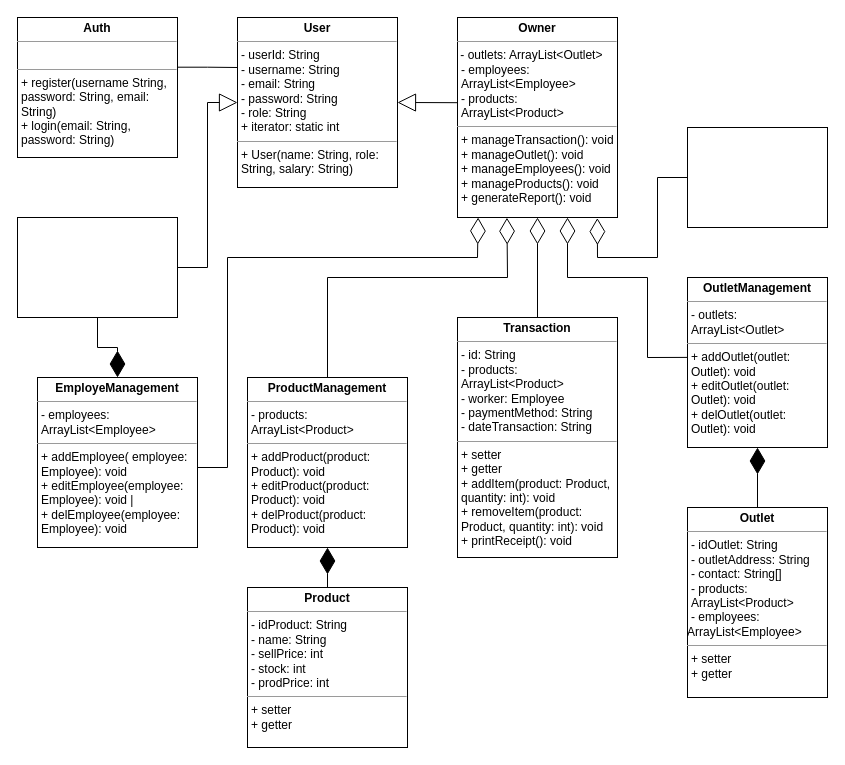
This 845x765 diagram has some shape labels left out. Here are the shapes that lost their labels. From the top down, the centre of each, then its label:
At point (757, 177): "Report + transactions: ArrayList<Transaction> + generateRepote(): void".
At point (97, 267): "Employee - salary: int - placement: String + manageTransaction(): void".
